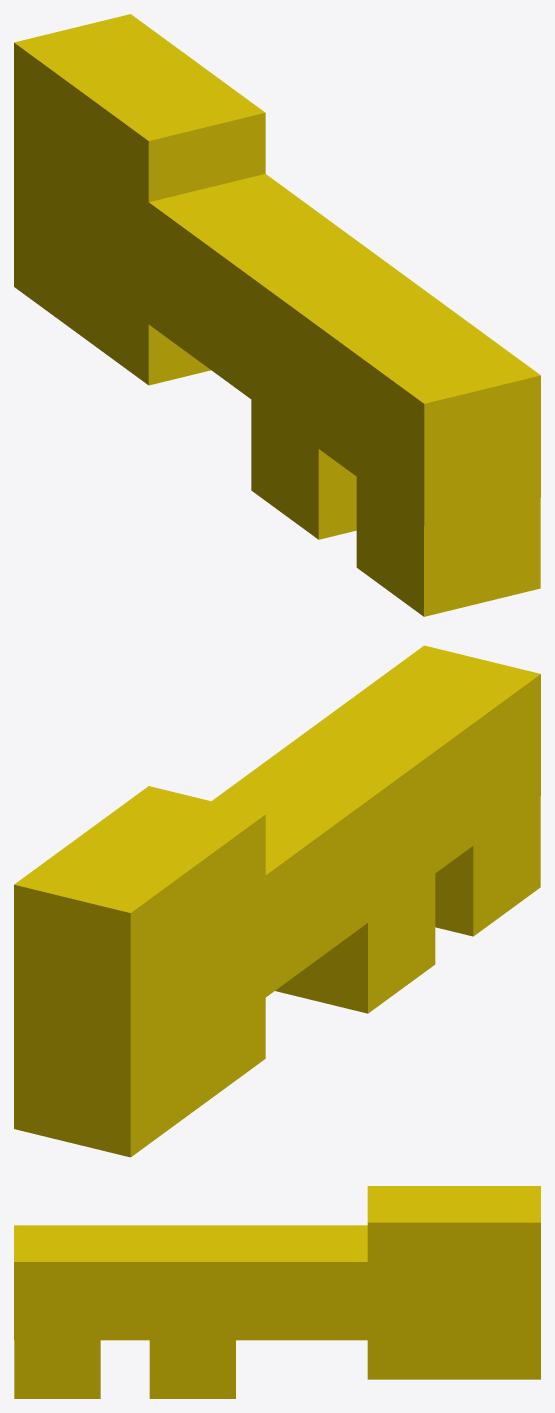
The model's file is key.fbx.
3 renders of one model, top to bottom at view 1: azimuth 30°, elevation 25°; view 2: azimuth 150°, elevation 25°; view 3: azimuth 270°, elevation 25°, orthographic. The views are drawn at different scales.
Visible parts, largest first — view 1: Cube, Cube.003, Cube.001, Cube.002; view 2: Cube.003, Cube, Cube.002, Cube.001; view 3: Cube, Cube.003, Cube.002, Cube.001.
Part boxes in pixels (x1,y1,x2,y2): Cube: (87, 157, 540, 525); Cube.003: (14, 14, 265, 385); Cube.001: (356, 446, 540, 616); Cube.002: (251, 370, 356, 539); Cube.003: (14, 786, 265, 1157); Cube: (204, 645, 540, 1020); Cube.002: (275, 842, 435, 1013); Cube.001: (435, 768, 540, 936); Cube: (14, 1225, 446, 1340); Cube.003: (367, 1186, 540, 1379); Cube.002: (149, 1320, 235, 1398); Cube.001: (14, 1320, 100, 1398).
Size of the model in its own units: 60 by 135 by 365.
